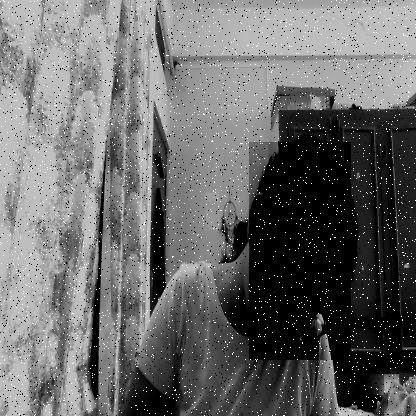Distracted: (250, 142, 352, 360)
